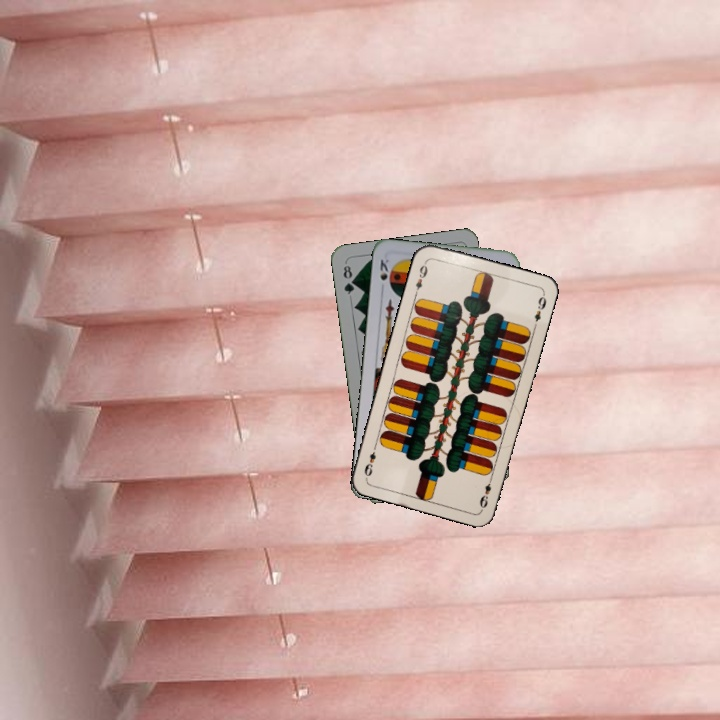E9: (475, 472, 495, 511), (411, 257, 430, 297)
G8: (339, 259, 357, 297)
SK: (376, 255, 394, 289)
